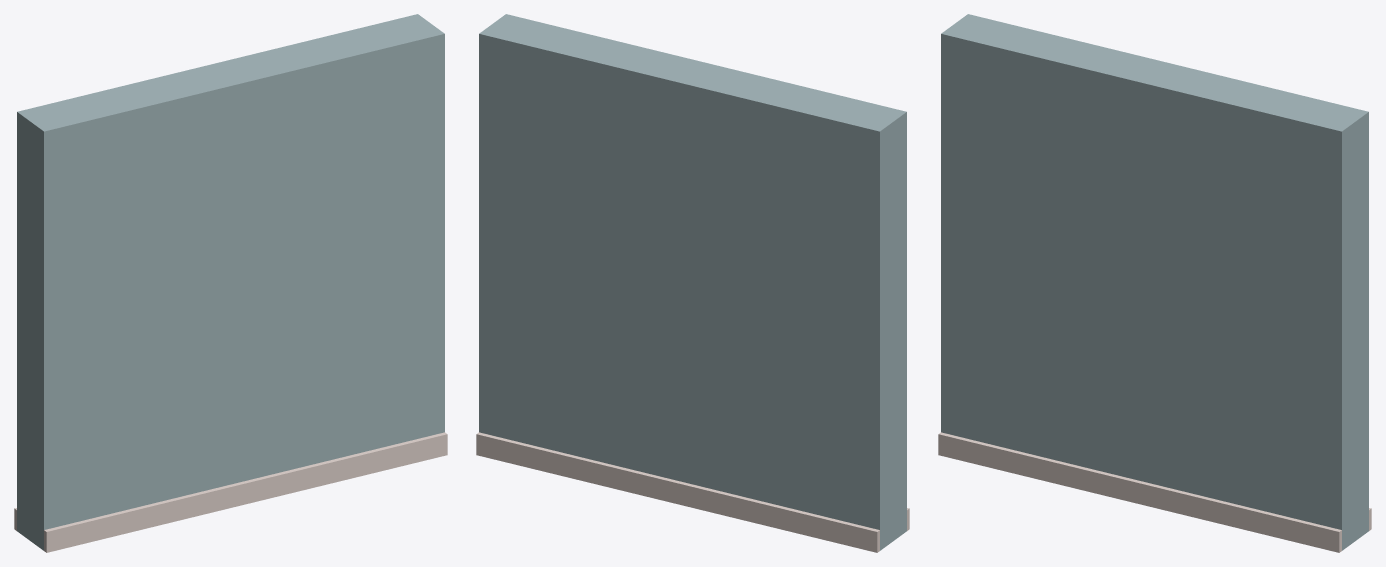
Rendered from InnerWall.fbx.
3 views of the same model, side by side, from view 1: azimuth 30°, elevation 25°; view 2: azimuth 150°, elevation 25°; view 3: azimuth 330°, elevation 25° (orthographic).
Parts seen in each view (by area): view 1: InnerWall; view 2: InnerWall; view 3: InnerWall.
Boxes of the visible parts, x1,y1,x2,y2 form: InnerWall: (14, 14, 447, 552); InnerWall: (476, 14, 909, 552); InnerWall: (938, 14, 1371, 552).
Size of the model in its own units: 2 by 0.278 by 2.
